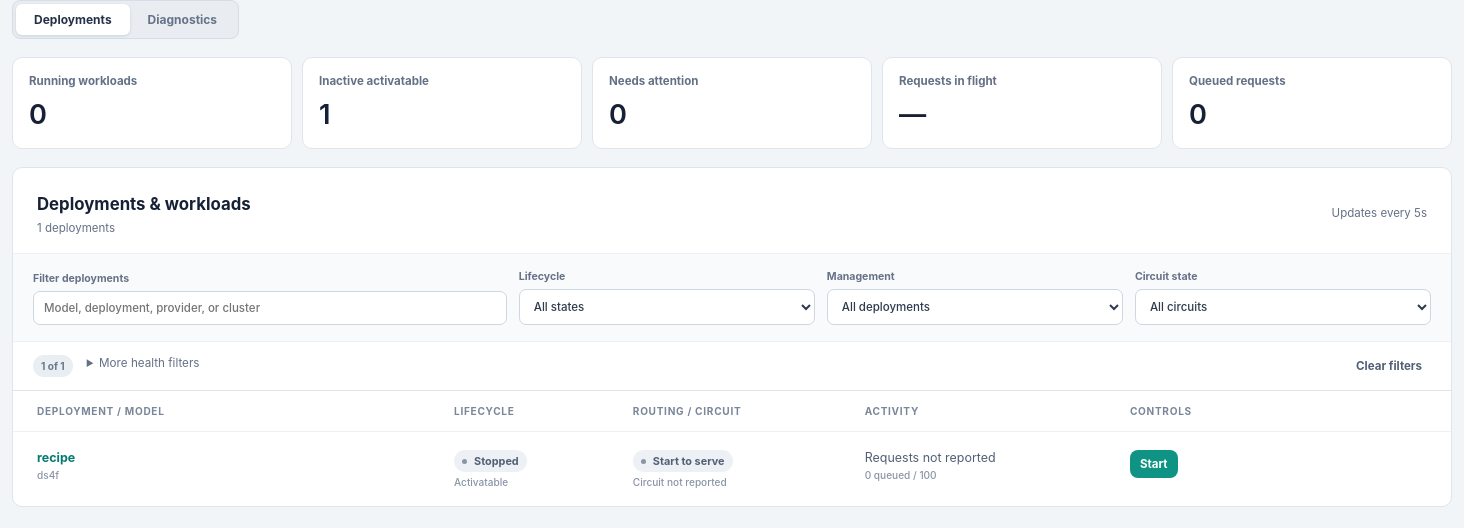
shows start failures and permits a retry
Click the button "Start". click: coordinates (1154, 464)
box: 1130,450 -> 1178,478
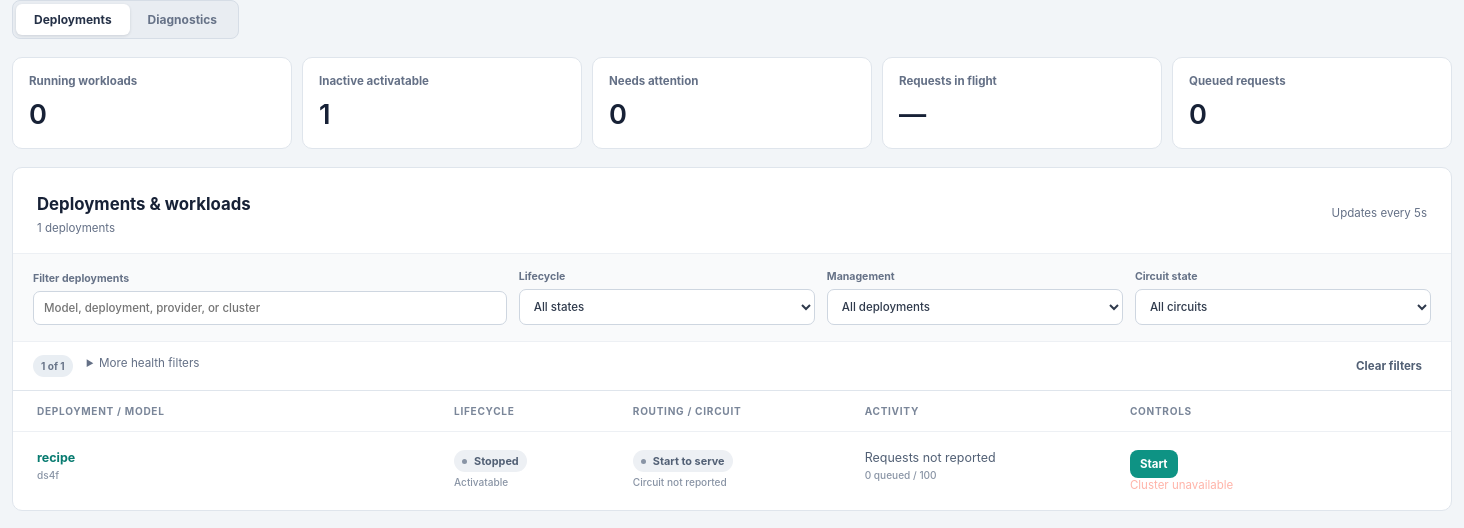
Result: the message reads "Cluster unavailable" at 1130,478 -> 1233,492
